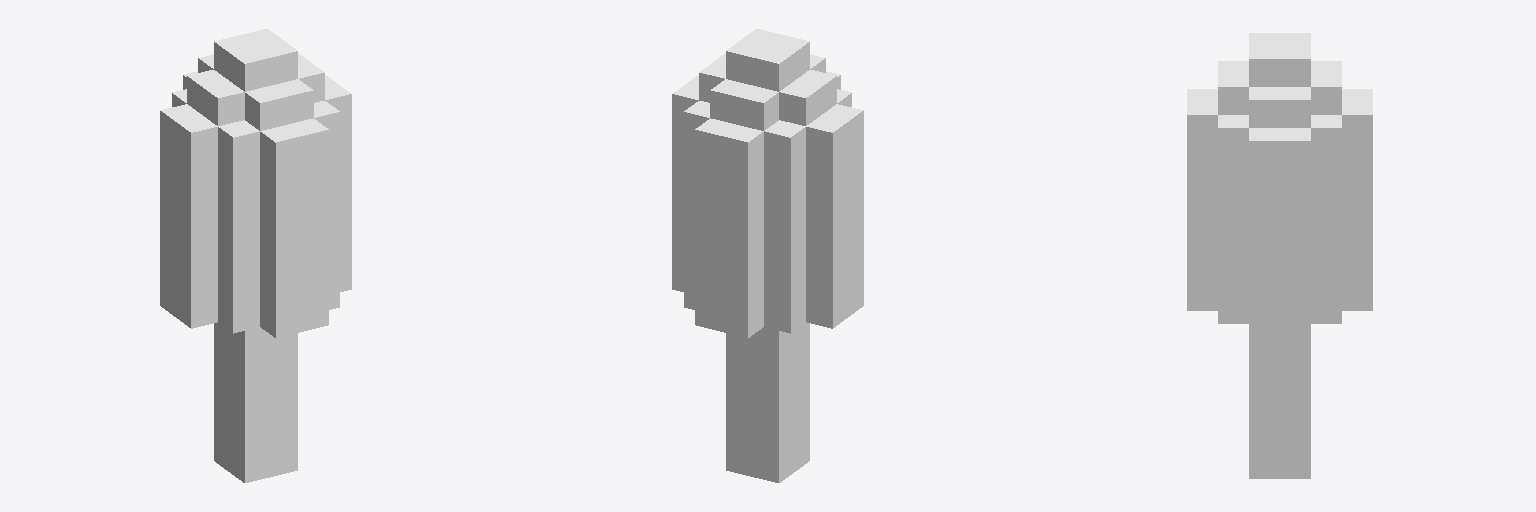
Rendered from Young_Tree_01.obj.
3 renders of one model, left to right at view 1: azimuth 30°, elevation 25°; view 2: azimuth 150°, elevation 25°; view 3: azimuth 270°, elevation 25°, orthographic.
Visible parts, largest first — view 1: object 1; view 2: object 1; view 3: object 1.
Boxes of the visible parts, box(x1,y1,x2,y2) form: object 1: box(160, 29, 351, 482); object 1: box(672, 29, 863, 482); object 1: box(1187, 33, 1372, 478).
Size of the model in its own units: 0.6 by 1.5 by 0.6.